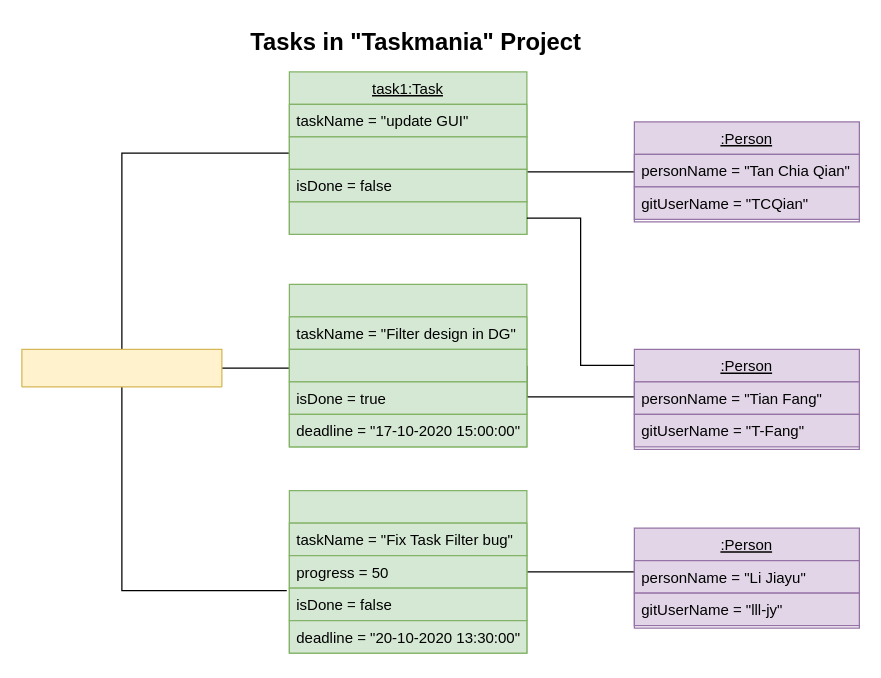
Some shapes in this 881 by 678 pixel diagram are drawn without their labels. Here are the shapes that lost their labels. From the top down, the box of each, then its label:
(288, 136, 527, 169): progress = 65
(288, 201, 527, 234): deadline = "19-10-2020 13:30:00"
(21, 348, 222, 387): Taskmania:Project
(288, 348, 527, 382): progress = 100
(288, 283, 527, 447): task2:Task
(288, 489, 527, 653): task3:Task
